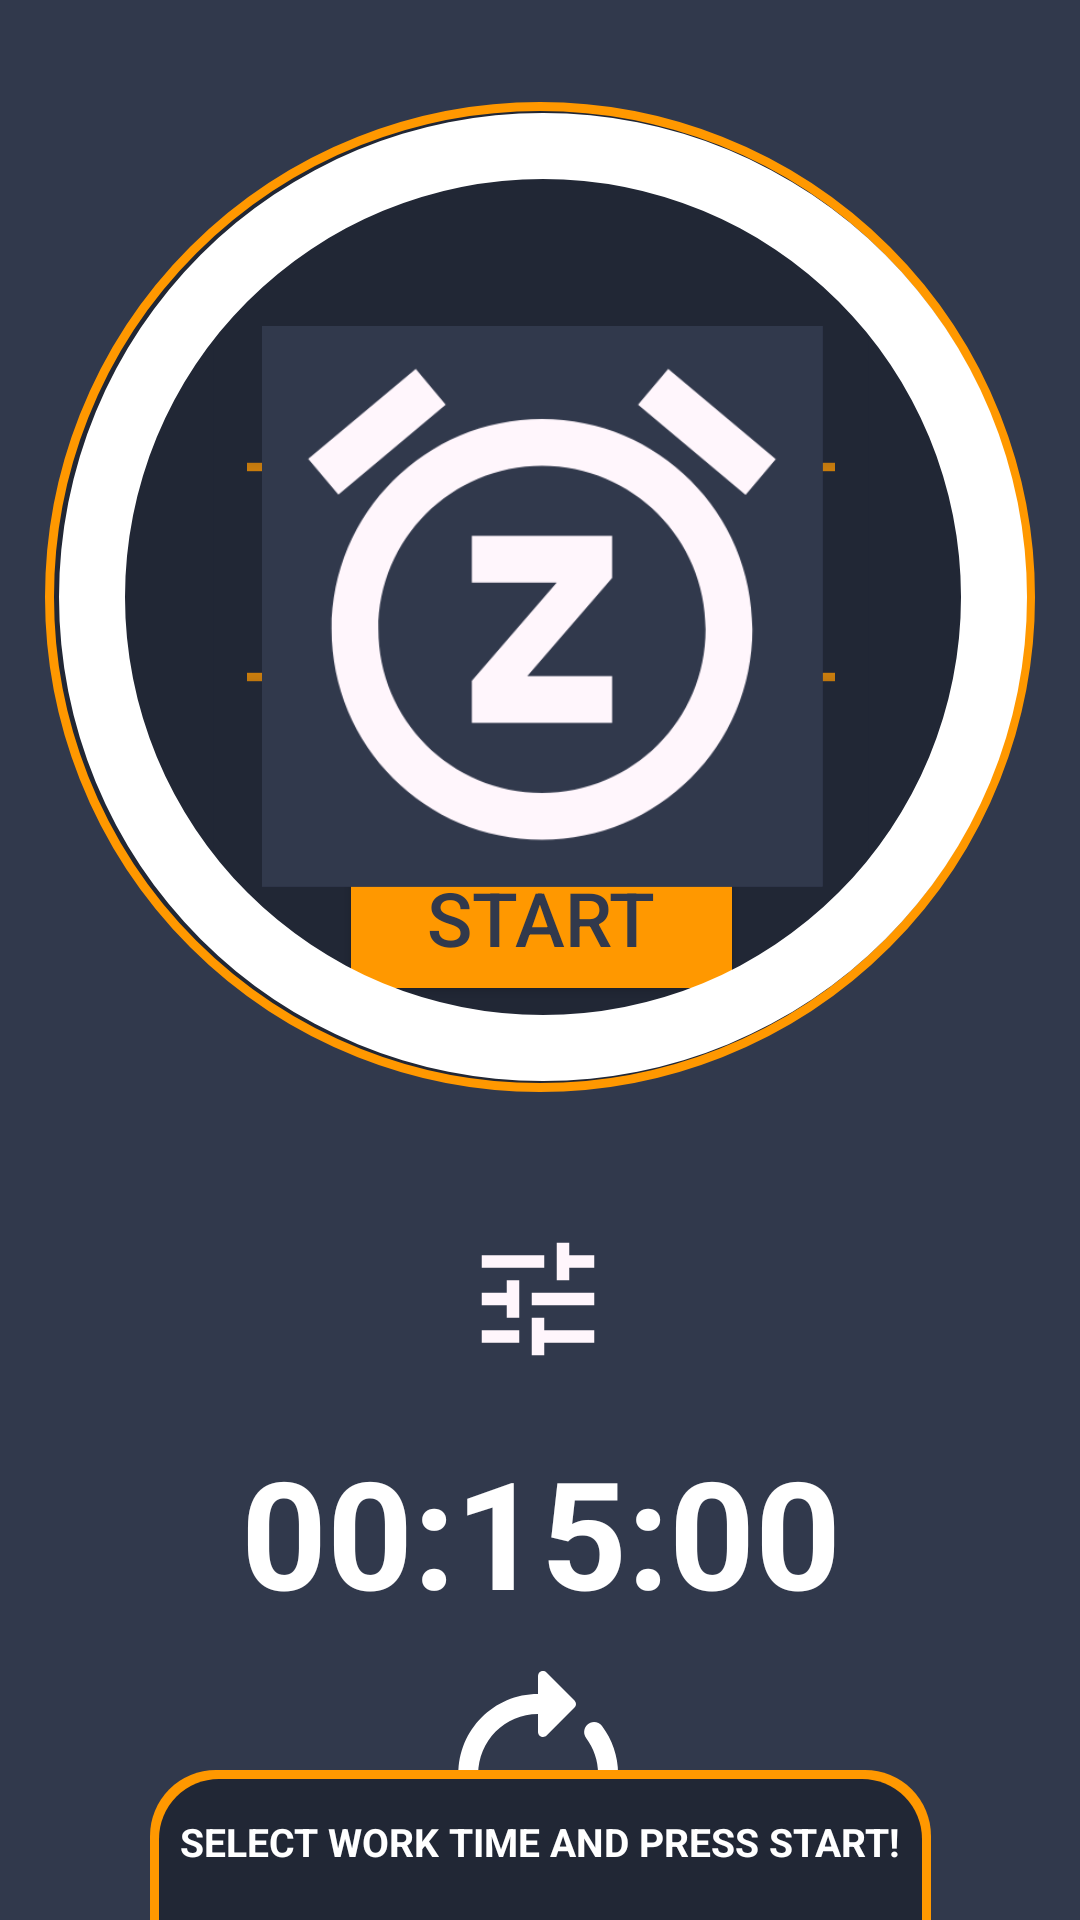

Icon bounding boxes for this 1080px×1920px phone screenshot, format [x1, y1, x2, y2]:
tune: [481, 1242, 595, 1356]
